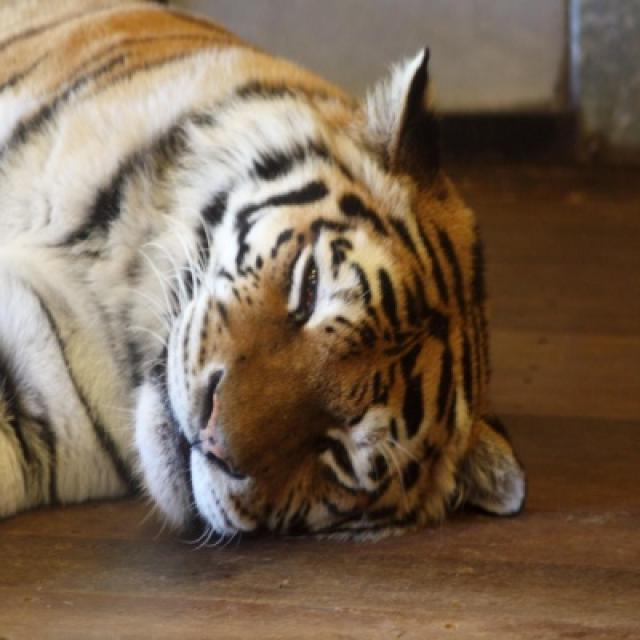Tiger: (0, 0, 523, 534)
